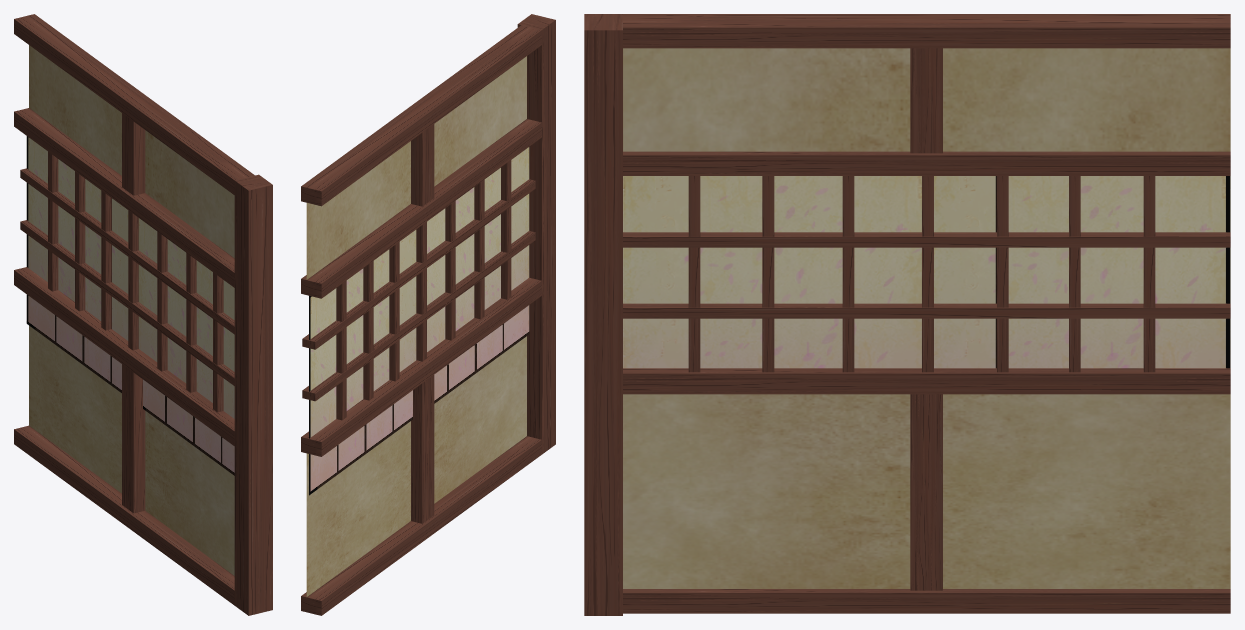
Rendered from SM_windowWallHigh.fbx.
The picture shows the model from 3 angles, left to right: view 1: azimuth 30°, elevation 25°; view 2: azimuth 150°, elevation 25°; view 3: azimuth 270°, elevation 25°; orthographic projection. The views are drawn at different scales.
Parts seen in each view (by area): view 1: SM_windowWallHigh; view 2: SM_windowWallHigh; view 3: SM_windowWallHigh.
Part boxes in pixels (bbox=[...]): SM_windowWallHigh: bbox=[14, 14, 272, 615]; SM_windowWallHigh: bbox=[301, 14, 555, 615]; SM_windowWallHigh: bbox=[584, 14, 1230, 615].
Size of the model in its own units: 1786 by 30000 by 30000.
